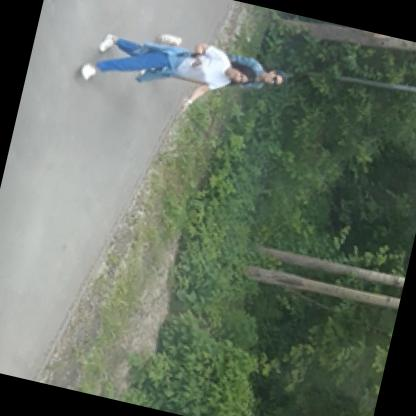Human Body: (73, 16, 258, 126), (137, 34, 287, 106)
